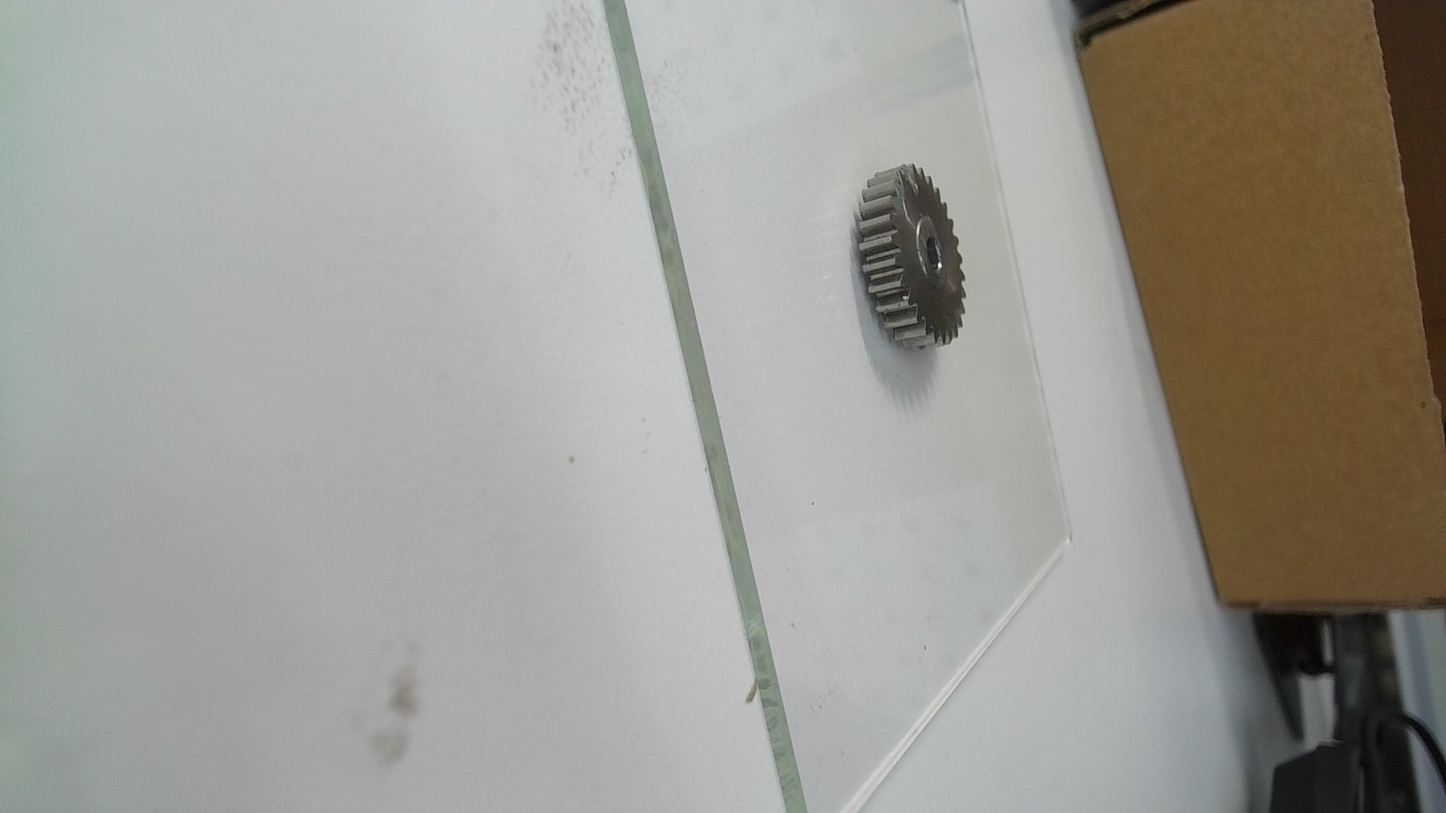gear: (848, 156, 972, 360)
